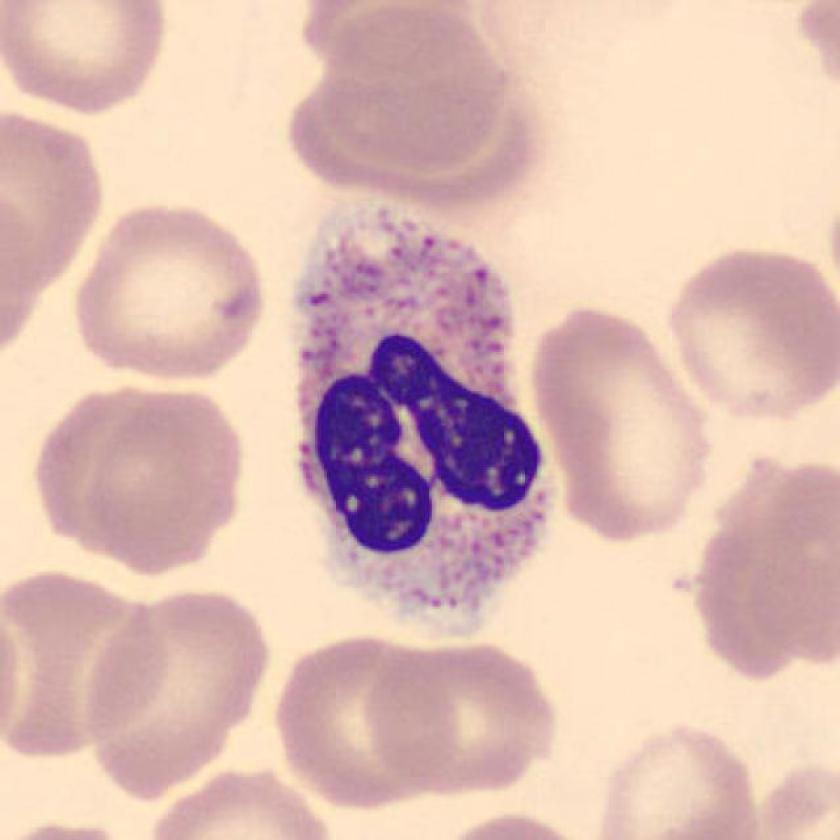neutrophil: (297, 195, 554, 635)
